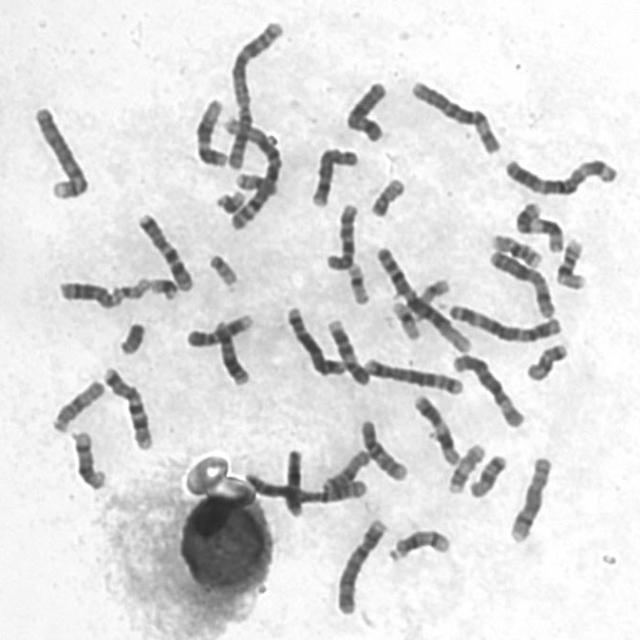A1: (371, 242, 474, 356), (218, 114, 283, 234)
A2: (223, 15, 286, 172), (238, 467, 368, 505)
A3: (499, 153, 621, 198), (443, 300, 564, 344)
B4: (29, 102, 91, 201), (331, 514, 388, 616)
B5: (283, 302, 347, 378), (360, 354, 464, 398)
C10: (355, 415, 409, 483), (322, 199, 360, 272)
C11: (409, 391, 462, 467), (512, 198, 566, 254)
C12: (192, 93, 230, 168), (281, 446, 306, 518)
C6: (406, 76, 504, 156), (449, 350, 526, 431)
C7: (133, 208, 196, 294), (99, 362, 155, 452)
C8: (506, 451, 555, 545), (308, 143, 360, 209)
C9: (323, 315, 371, 388), (182, 310, 255, 349)
D13: (210, 316, 252, 388), (55, 277, 122, 311)
D14: (385, 525, 453, 564), (68, 427, 108, 492)
D15: (48, 376, 106, 435), (319, 446, 371, 494)
E16: (486, 230, 544, 269), (552, 234, 590, 292)
E17: (444, 440, 486, 496), (408, 278, 451, 322)
E18: (523, 338, 571, 384), (465, 450, 509, 500)
F19: (388, 296, 422, 342), (344, 259, 371, 306)
F20: (367, 174, 408, 219), (231, 169, 281, 196)
G21: (213, 185, 247, 216), (146, 274, 180, 302)
G22: (204, 249, 239, 289), (114, 277, 151, 300)
X: (486, 245, 558, 319), (341, 78, 389, 144)
Y: (115, 318, 147, 356)
